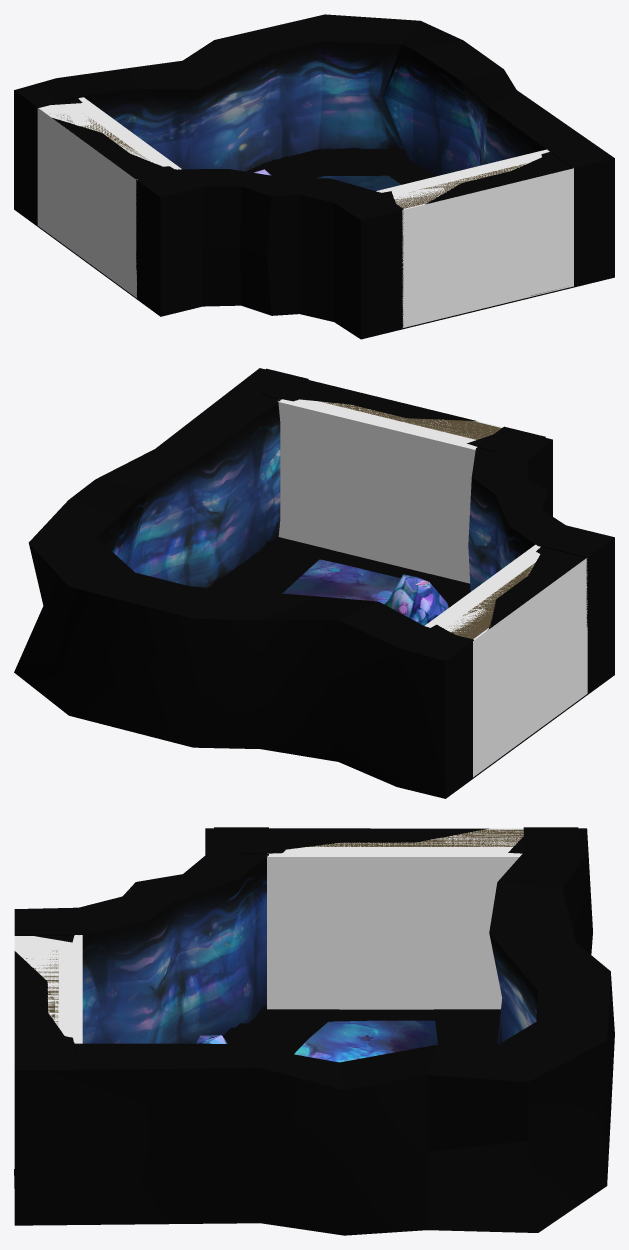
Rendered from Dungeon_052_RoadL_003.fbx.
The picture shows the model from 3 angles, top to bottom: view 1: azimuth 30°, elevation 25°; view 2: azimuth 150°, elevation 25°; view 3: azimuth 270°, elevation 25°; orthographic projection. The views are drawn at different scales.
Visible parts, largest first — view 1: Dan1, DoorWay_NavMask (1) (×2), Dun_011_Door_002_old (×2), Dan1_shadow, Dun_011_Door_002 (×2), Dun_011_Door_003_WarpRoom, Dan2; view 2: Dan1, DoorWay_NavMask (1) (×2), Dun_011_Door_002_old (×2), Dan1_shadow, Dan2, Dun_011_Door_003_WarpRoom (×2), Dungeon_011_Object_012, Dun_011_Door_002 (×2), Dun_011_Door_002_shadow; view 3: Dan1, DoorWay_NavMask (1) (×2), Dun_011_Door_002_old (×2), Dan1_shadow, Dan2, Dun_011_Door_003_WarpRoom, Dun_011_Door_002 (×2), Dun_011_Door_002_shadow.
Part boxes in pixels (left/top/right/bottom): Dan1: left=14, top=14, right=614, bottom=339; DoorWay_NavMask (1) (×2): left=37, top=97, right=573, bottom=327; Dun_011_Door_002_old (×2): left=17, top=86, right=608, bottom=217; Dan1_shadow: left=246, top=148, right=555, bottom=295; Dun_011_Door_002 (×2): left=38, top=93, right=607, bottom=328; Dun_011_Door_003_WarpRoom: left=394, top=163, right=525, bottom=208; Dan2: left=316, top=175, right=401, bottom=190; Dan1: left=14, top=368, right=614, bottom=798; DoorWay_NavMask (1) (×2): left=277, top=399, right=587, bottom=777; Dun_011_Door_002_old (×2): left=240, top=368, right=610, bottom=657; Dan1_shadow: left=207, top=537, right=470, bottom=607; Dan2: left=282, top=559, right=400, bottom=604; Dun_011_Door_003_WarpRoom (×2): left=317, top=401, right=534, bottom=639; Dungeon_011_Object_012: left=384, top=574, right=448, bottom=625; Dun_011_Door_002 (×2): left=240, top=369, right=608, bottom=777; Dun_011_Door_002_shadow: left=320, top=550, right=429, bottom=579; Dan1: left=14, top=828, right=614, bottom=1235; DoorWay_NavMask (1) (×2): left=14, top=828, right=523, bottom=1043; Dun_011_Door_002_old (×2): left=14, top=827, right=578, bottom=1065; Dan1_shadow: left=14, top=1005, right=500, bottom=1188; Dan2: left=294, top=1020, right=437, bottom=1062; Dun_011_Door_003_WarpRoom: left=309, top=829, right=523, bottom=846; Dun_011_Door_002 (×2): left=14, top=827, right=551, bottom=1065; Dun_011_Door_002_shadow: left=329, top=1009, right=435, bottom=1021.
Size of what is drawn, in the model's own units: 7.21 by 2.08 by 7.09.
